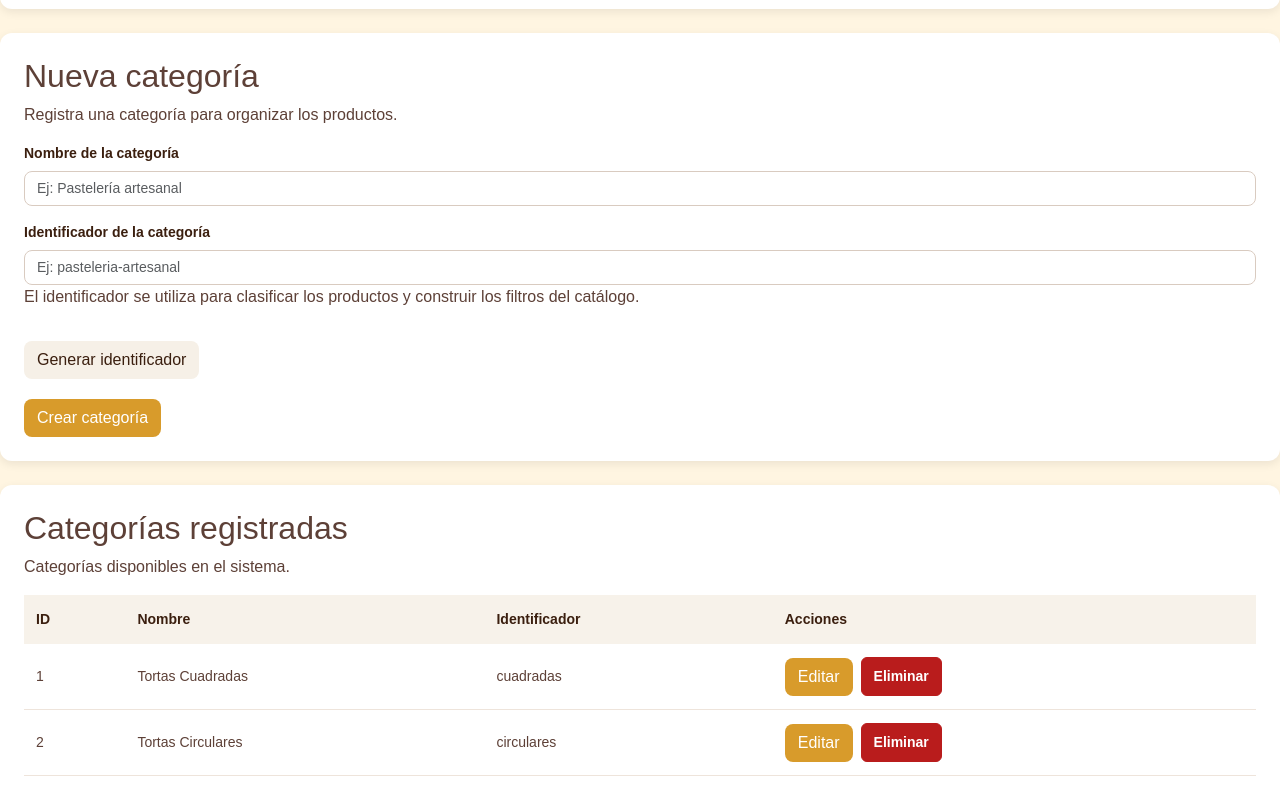
Test case: C3-09 - Administración de categorías › muestra el error 409 junto a la tabla
(page scrolled)
Check: the text "Tortas Cuadradas" is shown, box [125, 644, 484, 710]
Click the button with aria-label "Eliminar Tortas Cuadradas".
click(901, 677)  # box [860, 657, 942, 696]
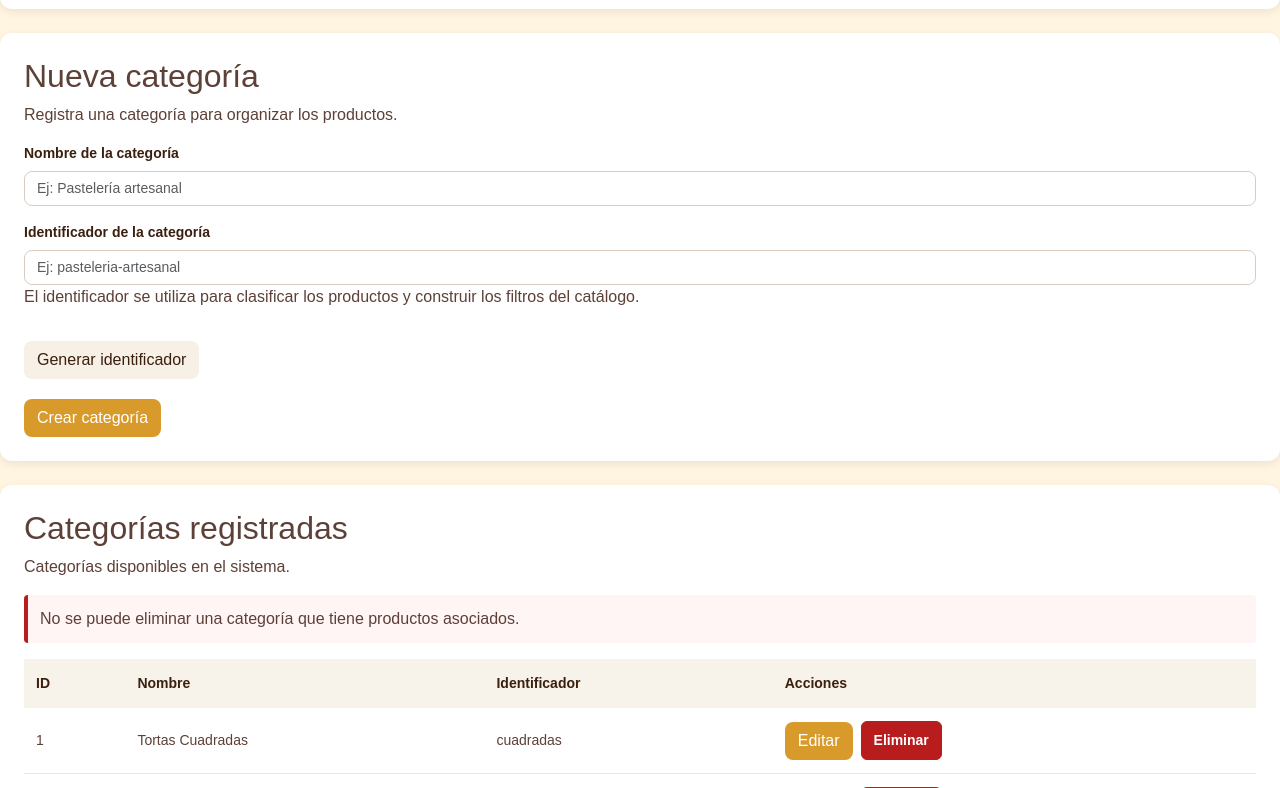
Check: the text "Tortas Cuadradas" is shown, box [125, 708, 484, 774]
Check: the message reads "No se puede eliminar una categoría que tiene productos asociados.", box [40, 610, 519, 627]
